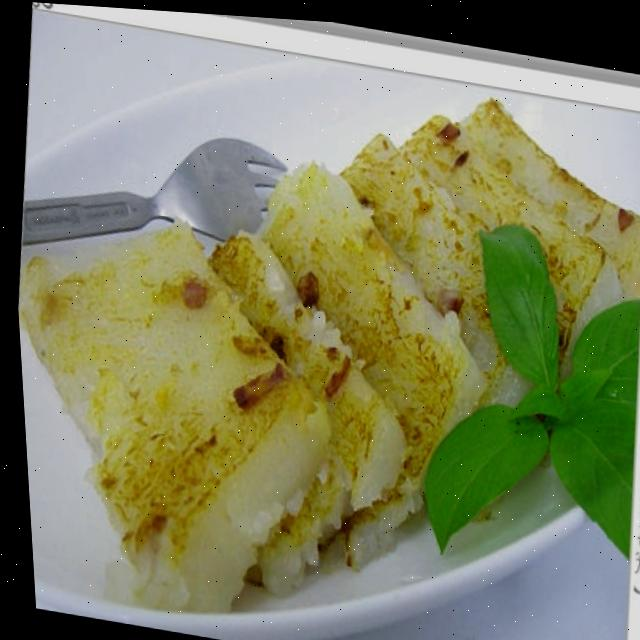蛋糕甜品: (1, 21, 640, 640)
